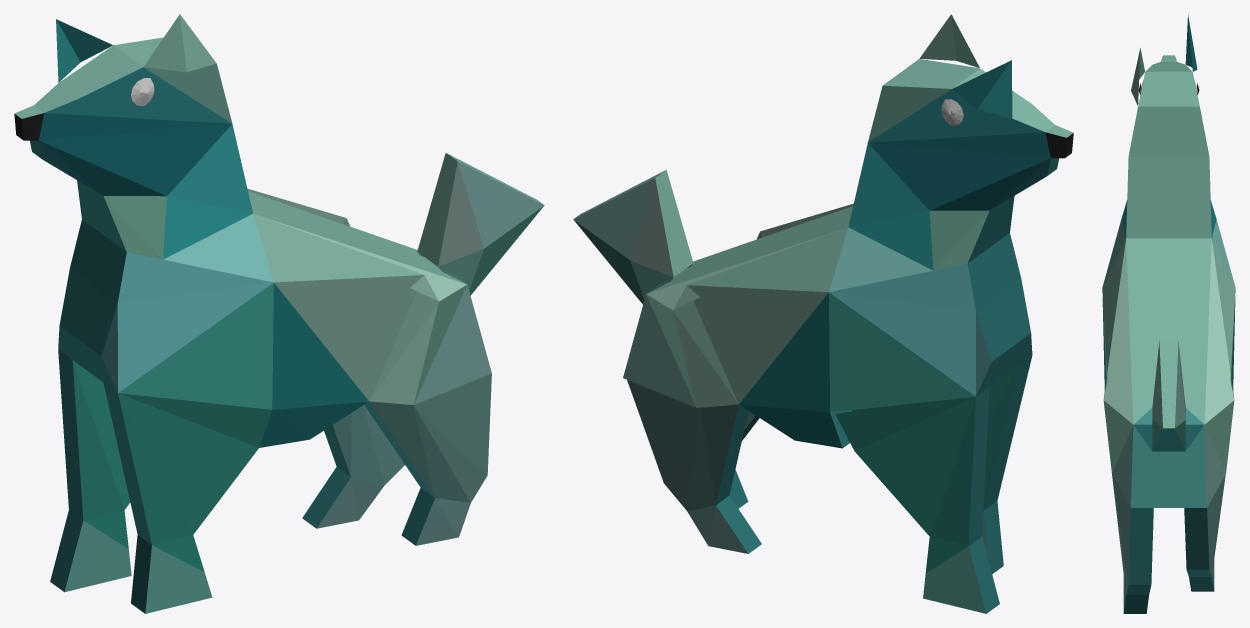
File: foldling_dog.glb
The picture shows the model from 3 angles, left to right: view 1: azimuth 30°, elevation 25°; view 2: azimuth 150°, elevation 25°; view 3: azimuth 270°, elevation 25°; orthographic projection. The views are drawn at different scales.
Visible parts, largest first — view 1: anjing; view 2: anjing; view 3: anjing.
Part boxes in pixels (<box>): anjing: <box>14,14,544,613</box>; anjing: <box>573,14,1073,613</box>; anjing: <box>1102,15,1235,613</box>.
Size of the model in its own units: 0.218 by 0.2316 by 0.0605.
